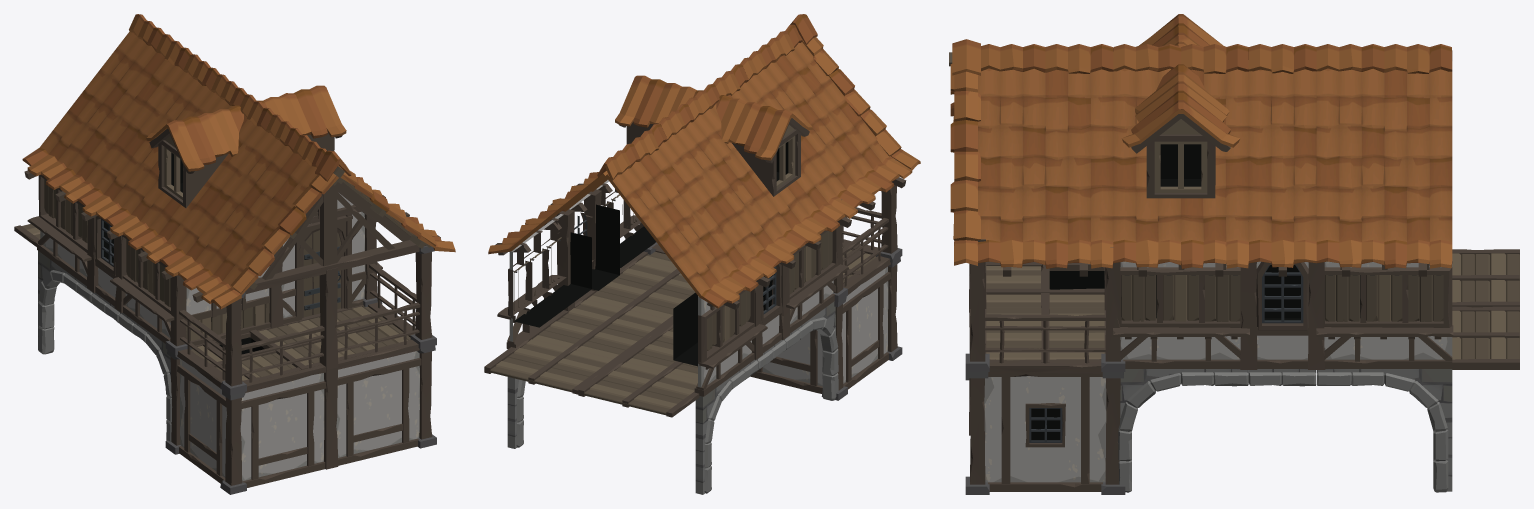
The model's file is SM_Bld_Preset_House_Archway_01_Wing_02_Optimized.glb.
3 renders of one model, left to right at view 1: azimuth 30°, elevation 25°; view 2: azimuth 150°, elevation 25°; view 3: azimuth 270°, elevation 25°, orthographic. The views are drawn at different scales.
Visible parts, largest first — view 1: SM_Bld_Preset_House_Archway_01_Wing_02_Optimized; view 2: SM_Bld_Preset_House_Archway_01_Wing_02_Optimized; view 3: SM_Bld_Preset_House_Archway_01_Wing_02_Optimized.
Part boxes in pixels (bbox=[...]): SM_Bld_Preset_House_Archway_01_Wing_02_Optimized: bbox=[14, 14, 455, 494]; SM_Bld_Preset_House_Archway_01_Wing_02_Optimized: bbox=[484, 14, 920, 494]; SM_Bld_Preset_House_Archway_01_Wing_02_Optimized: bbox=[949, 14, 1519, 494].
Size of the model in its own units: 6.45 by 7.99 by 10.53.
1 material, 1 textured.
